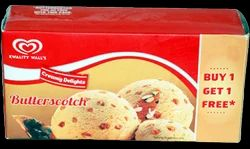Kwality_Walls: (9, 37, 44, 58)
